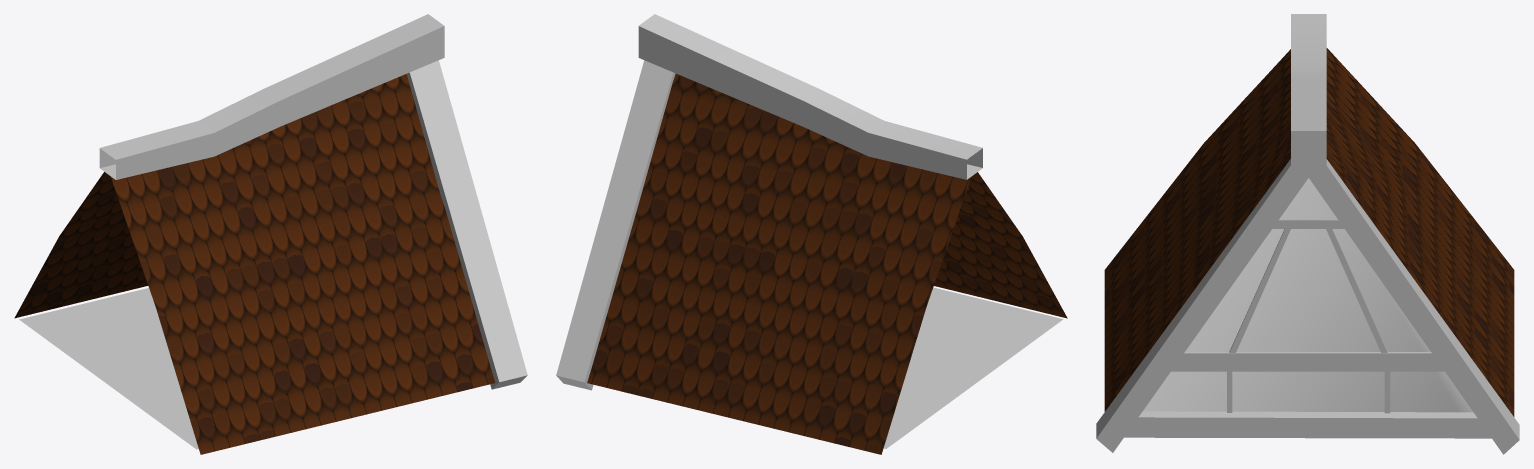
Rendered from Roof_Hutch.fbx.
The picture shows the model from 3 angles, left to right: view 1: azimuth 30°, elevation 25°; view 2: azimuth 150°, elevation 25°; view 3: azimuth 270°, elevation 25°; orthographic projection. The views are drawn at different scales.
Visible parts, largest first — view 1: Roof_Hutch1; view 2: Roof_Hutch1; view 3: Roof_Hutch1.
Part boxes in pixels (x1,y1,x2,y2): Roof_Hutch1: (14,14,527,454); Roof_Hutch1: (556,14,1067,454); Roof_Hutch1: (1096,14,1519,454).
Bounding box in the file's own units: 279 × 242 × 284.
